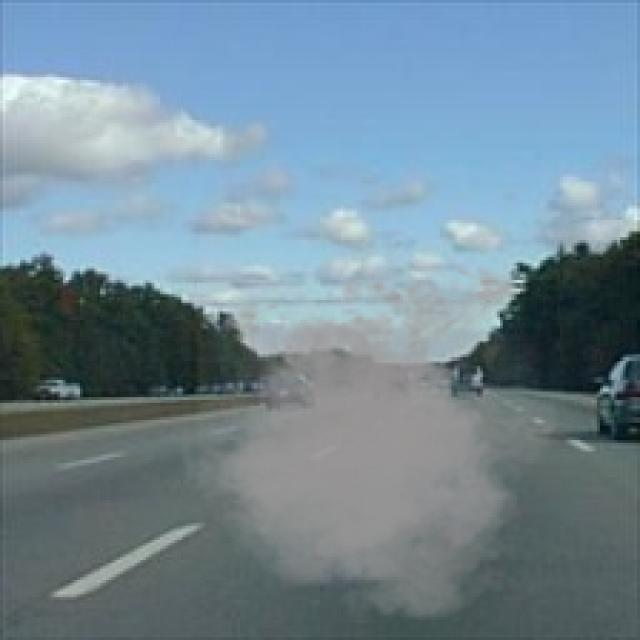smoke: (160, 254, 577, 626)
